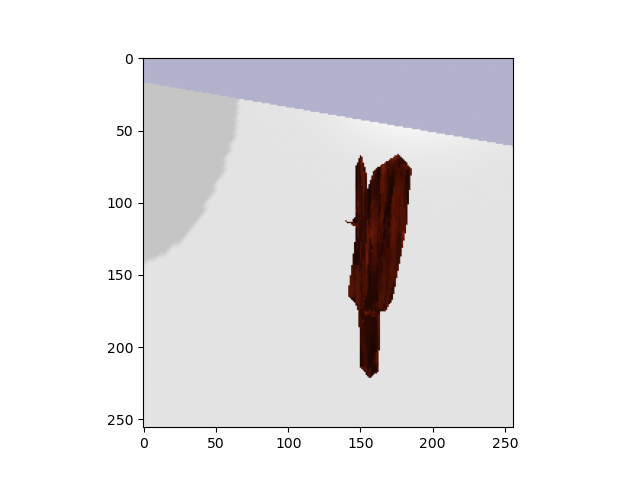v249b387_107: (337, 148, 422, 383)
